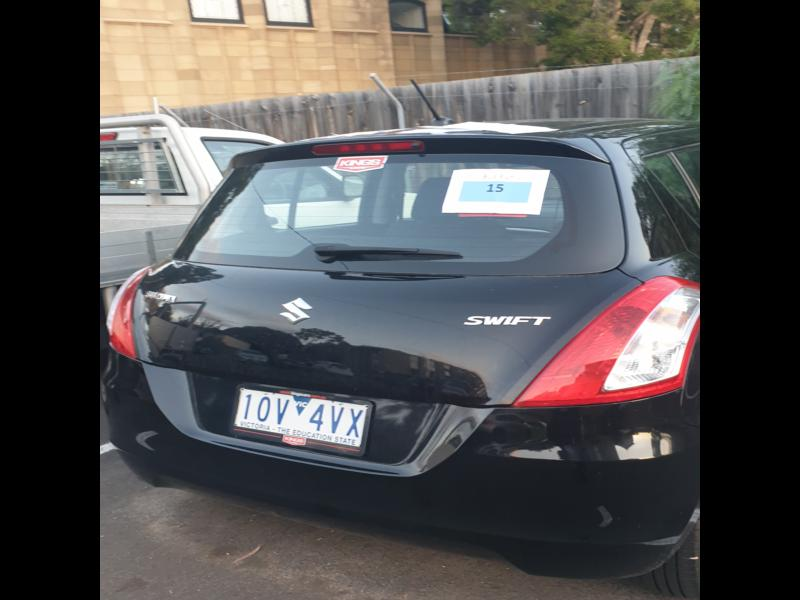BusRun: (460, 181, 529, 200)
PlateNo: (238, 387, 367, 444)
